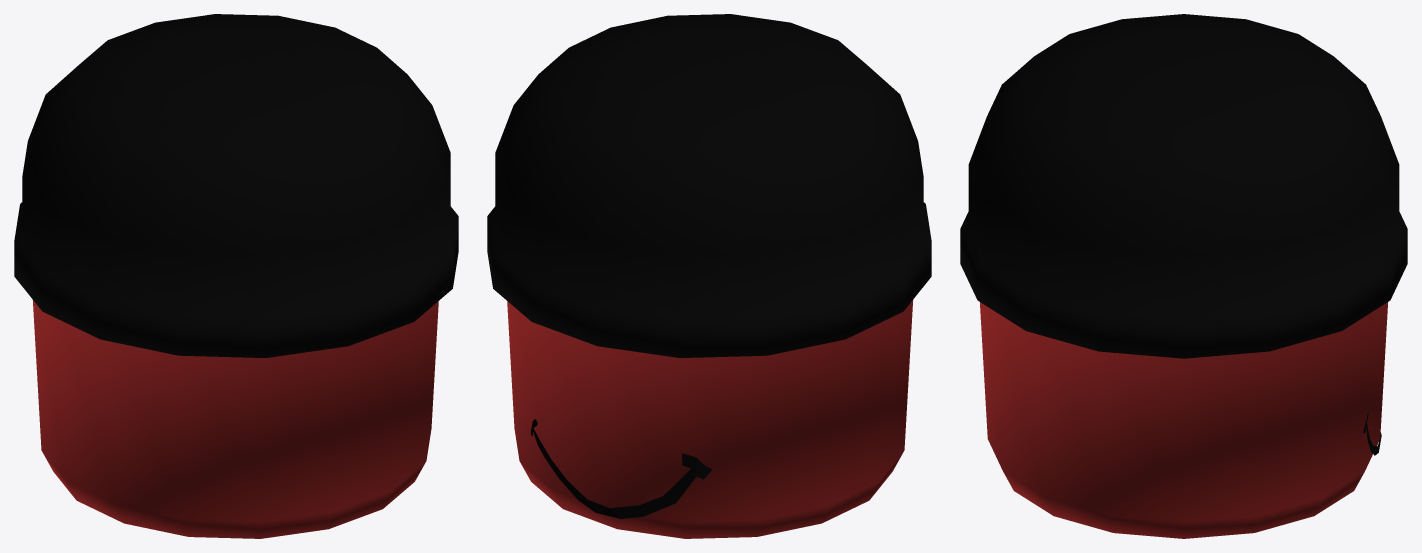
File: henry.glb
3 views of the same model, side by side, from view 1: azimuth 30°, elevation 25°; view 2: azimuth 150°, elevation 25°; view 3: azimuth 270°, elevation 25° (orthographic).
Visible parts, largest first — view 1: Cylinder; view 2: Cylinder, Plane; view 3: Cylinder.
Boxes of the visible parts, x1,y1,x2,y2 form: Cylinder: (14,14,458,538); Cylinder: (487,14,931,538); Plane: (530,419,711,518); Cylinder: (960,14,1407,538).
Size of the model in its own units: 2.01 by 2.03 by 2.01.
